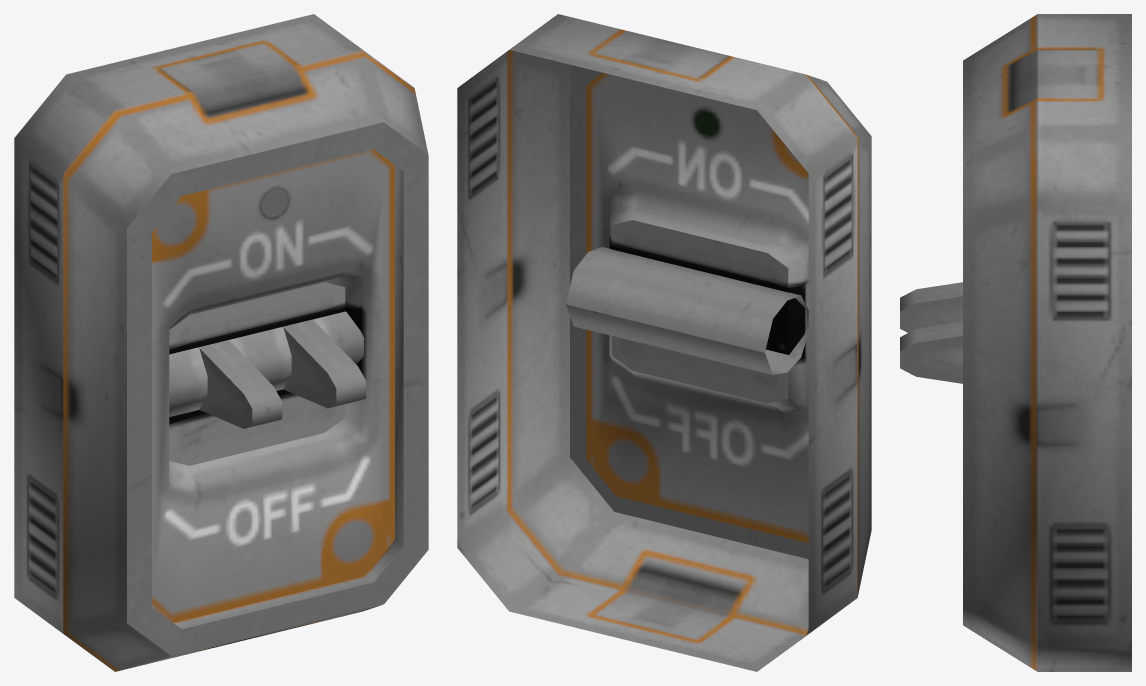
Rendered from Switch B1B.fbx.
3 views of the same model, side by side, from view 1: azimuth 30°, elevation 25°; view 2: azimuth 150°, elevation 25°; view 3: azimuth 270°, elevation 25° (orthographic). The views are drawn at different scales.
Visible parts, largest first — view 1: Switch B1B, SwitchHandle B1B, Switch B1B Light; view 2: Switch B1B, SwitchHandle B1B; view 3: Switch B1B, SwitchHandle B1B.
Part boxes in pixels (x1,y1,x2,y2): Switch B1B: (14,14,428,671); SwitchHandle B1B: (169,311,366,428); Switch B1B Light: (261,189,288,217); Switch B1B: (457,14,871,671); SwitchHandle B1B: (566,247,808,374); Switch B1B: (963,14,1131,671); SwitchHandle B1B: (900,282,962,383).
Bounding box in the file's own units: 7.24 × 11.06 × 4.3.
Materials: 2 (1 with a texture image).
